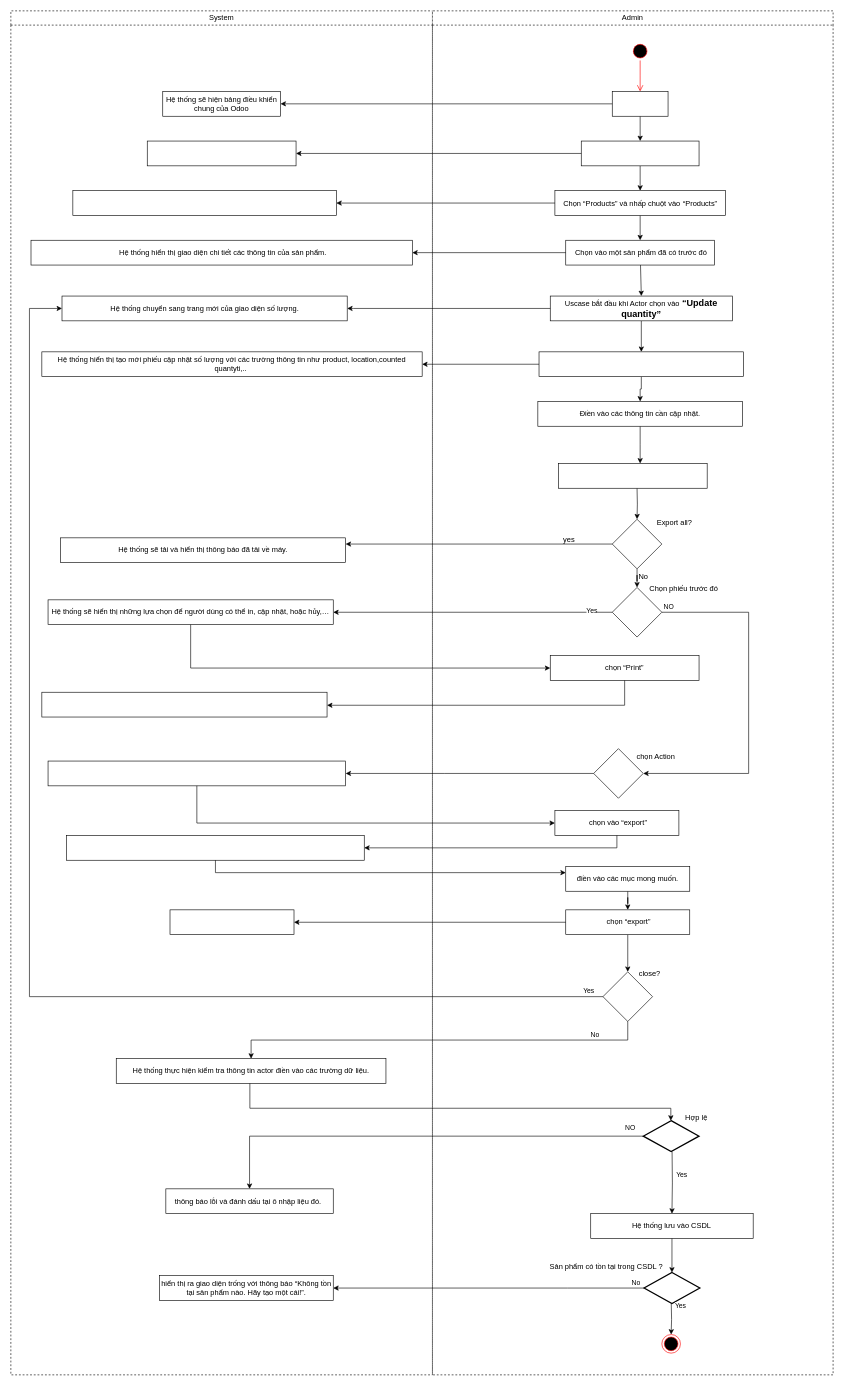
The diagram is 844 pixels wide and 1386 high, and some of its shapes have lost their labels. The centre of each missing label's shape, as x and y in pixels:
chọn vào “New”: [641,364]
Chọn “ Inventory”: [640,153]
Chọn “Save”: [632,475]
Hệ thống hiển thị 2 lựa chọn là export và set.: [196,773]
Hệ thống hiển thị bảng điều khiển của kho.: [221,153]
Hệ thống hiển thị giao diện chứa tất cả sản phẩm có đã được tạo trước đó.: [204,202]
Hệ thống hiển thị một biểu mẫu chi tiết để in.: [215,847]
Hệ thống sẽ tải file về máy.: [231,922]
Hệ thống sẽ tải về máy file pdf ta đã chọn.: [184,704]
Login: [640,103]
